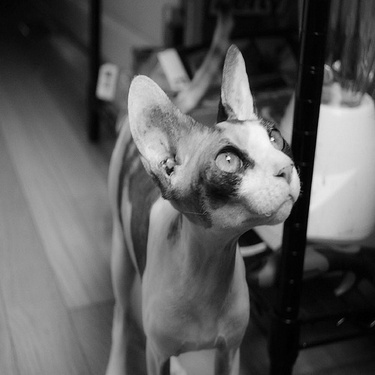cat: (106, 11, 305, 367)
